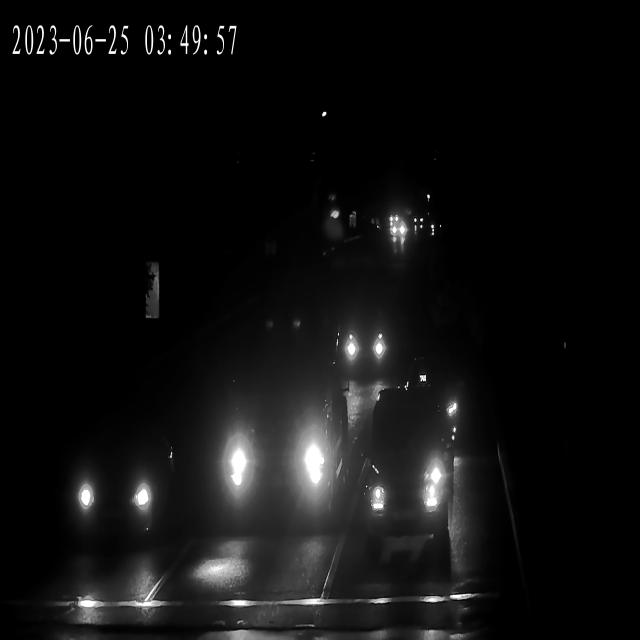Car: (205, 383, 344, 531), (59, 430, 176, 547), (356, 404, 458, 534), (332, 314, 392, 378), (256, 297, 314, 344), (322, 186, 359, 229), (382, 226, 405, 244), (384, 221, 408, 238), (382, 222, 404, 240), (412, 209, 427, 229)
